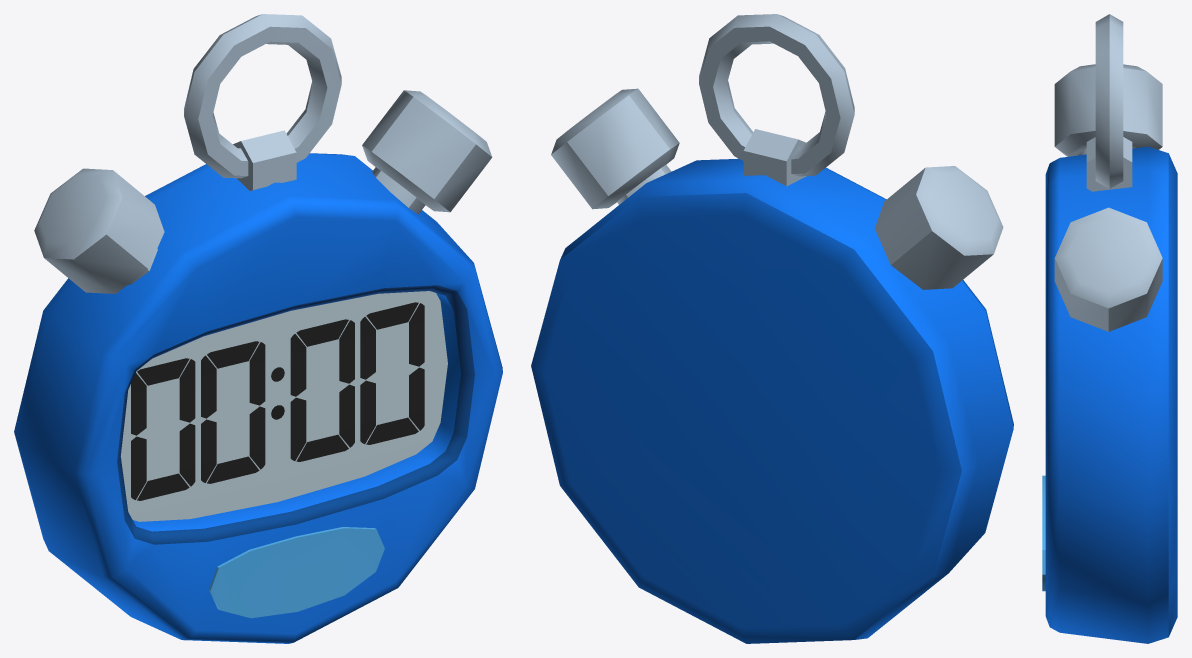
The picture shows the model from 3 angles, left to right: view 1: azimuth 30°, elevation 25°; view 2: azimuth 150°, elevation 25°; view 3: azimuth 270°, elevation 25°; orthographic projection. The views are drawn at different scales.
Parts seen in each view (by area): view 1: model_0.022; view 2: model_0.022; view 3: model_0.022.
Boxes of the visible parts, left/top/right/bottom form: model_0.022: left=14, top=14, right=502, bottom=643; model_0.022: left=531, top=14, right=1013, bottom=643; model_0.022: left=1042, top=14, right=1177, bottom=643.
Bounding box in the file's own units: 3.39 × 4.49 × 0.919.
